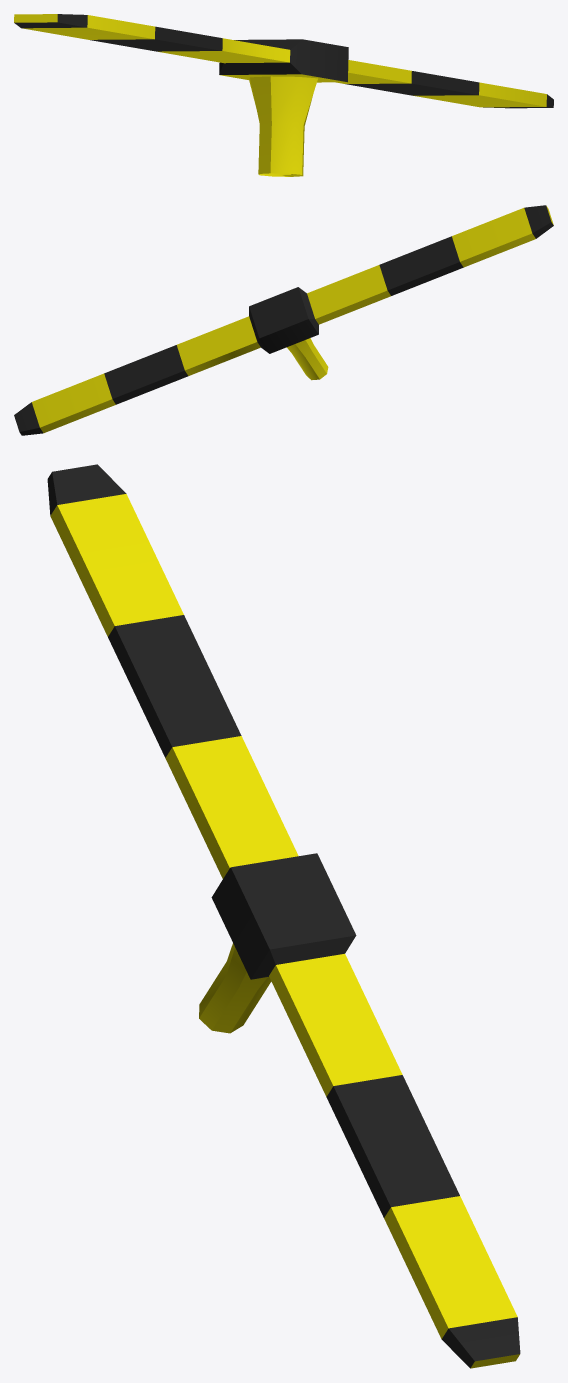
File: drone_costum_Cube.004.fbx
3 views of the same model, one above another, from view 1: azimuth 30°, elevation 25°; view 2: azimuth 150°, elevation 25°; view 3: azimuth 270°, elevation 25° (orthographic). The views are drawn at different scales.
Parts seen in each view (by area): view 1: drone_costum_Cube_004; view 2: drone_costum_Cube_004; view 3: drone_costum_Cube_004.
Part boxes in pixels (bbox=[...]): drone_costum_Cube_004: bbox=[14, 14, 553, 176]; drone_costum_Cube_004: bbox=[14, 205, 553, 435]; drone_costum_Cube_004: bbox=[47, 464, 520, 1368].
Size of the model in its own units: 621 by 328 by 286.
